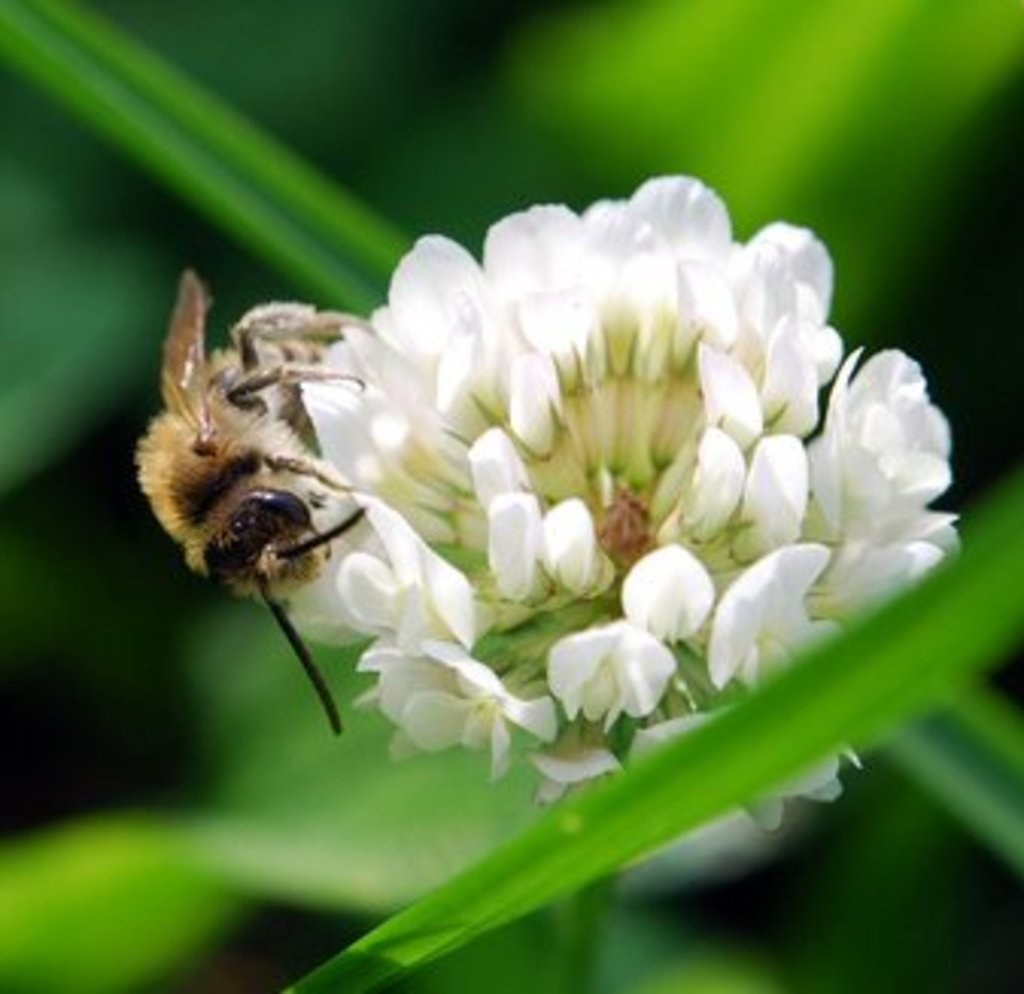bee: (134, 274, 368, 739)
